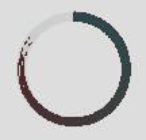ProgressBar: (1, 1, 145, 139)
